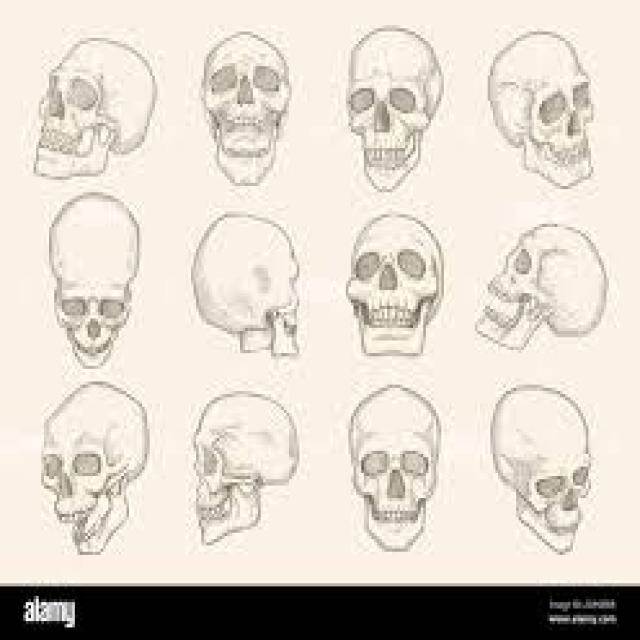skull: (29, 32, 160, 188)
